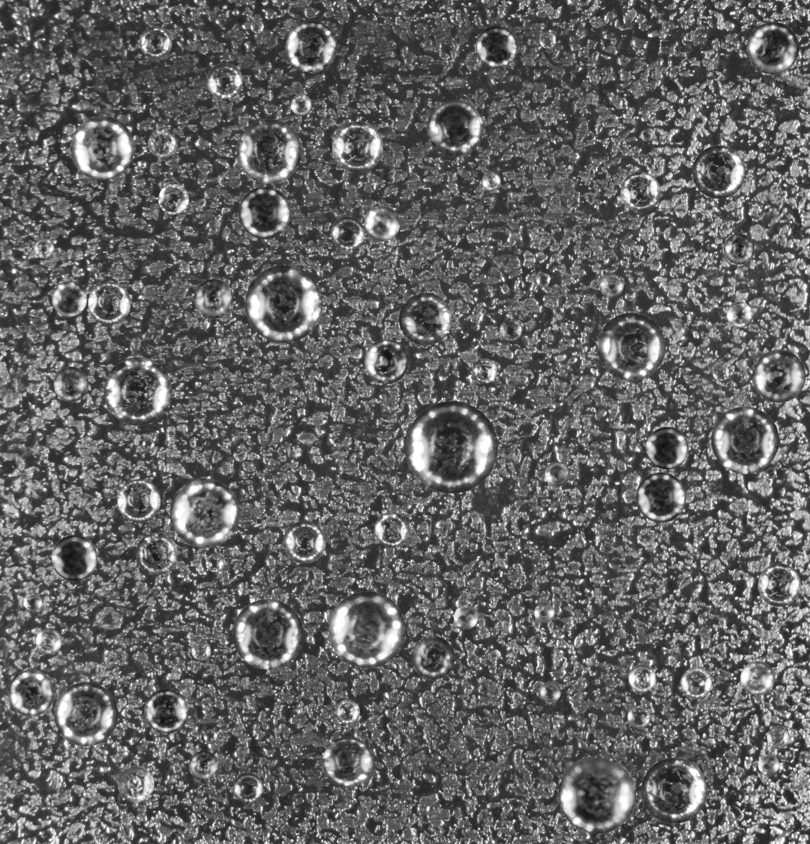Bubble: (405, 401, 497, 493), (558, 756, 636, 833), (245, 265, 322, 342), (328, 591, 405, 668), (232, 599, 303, 669), (170, 478, 239, 547), (103, 357, 171, 425), (597, 312, 665, 380), (711, 406, 779, 474), (641, 757, 707, 823), (54, 682, 118, 746), (70, 116, 134, 180), (237, 119, 301, 183), (427, 100, 483, 156), (752, 349, 805, 402), (692, 145, 745, 198), (399, 292, 451, 345), (238, 186, 290, 238), (747, 22, 799, 74), (285, 20, 337, 72), (332, 121, 383, 172), (322, 737, 373, 787), (636, 472, 686, 522), (7, 669, 54, 716), (51, 535, 97, 581), (364, 339, 408, 383), (144, 689, 188, 733), (758, 563, 801, 606), (117, 479, 160, 522), (135, 532, 178, 575), (411, 636, 454, 679), (87, 282, 130, 324), (475, 25, 517, 67), (646, 427, 688, 469), (283, 521, 325, 563), (620, 171, 660, 211), (193, 279, 233, 318), (117, 766, 154, 802), (206, 63, 242, 99), (51, 281, 87, 316), (364, 205, 399, 241), (53, 366, 88, 401), (374, 512, 409, 547), (740, 661, 774, 695), (331, 216, 364, 250), (139, 26, 172, 58), (680, 667, 712, 698), (158, 183, 189, 214), (724, 233, 754, 264), (188, 750, 218, 780), (148, 128, 177, 157), (233, 773, 262, 802), (628, 664, 656, 691), (35, 628, 61, 654), (726, 301, 752, 327), (544, 461, 569, 486), (472, 358, 497, 383), (453, 605, 478, 629), (335, 699, 359, 724), (599, 273, 623, 297), (627, 705, 650, 728), (767, 726, 789, 749), (499, 319, 521, 341), (758, 754, 779, 775), (290, 94, 311, 115), (540, 681, 561, 702), (33, 238, 54, 258), (534, 602, 554, 622), (191, 641, 211, 660), (23, 592, 41, 611), (205, 553, 223, 572), (482, 172, 500, 190), (539, 31, 556, 48), (712, 364, 729, 380), (535, 272, 549, 287), (203, 729, 217, 743), (250, 19, 263, 33), (640, 129, 653, 141), (142, 438, 154, 450), (765, 467, 776, 478)
